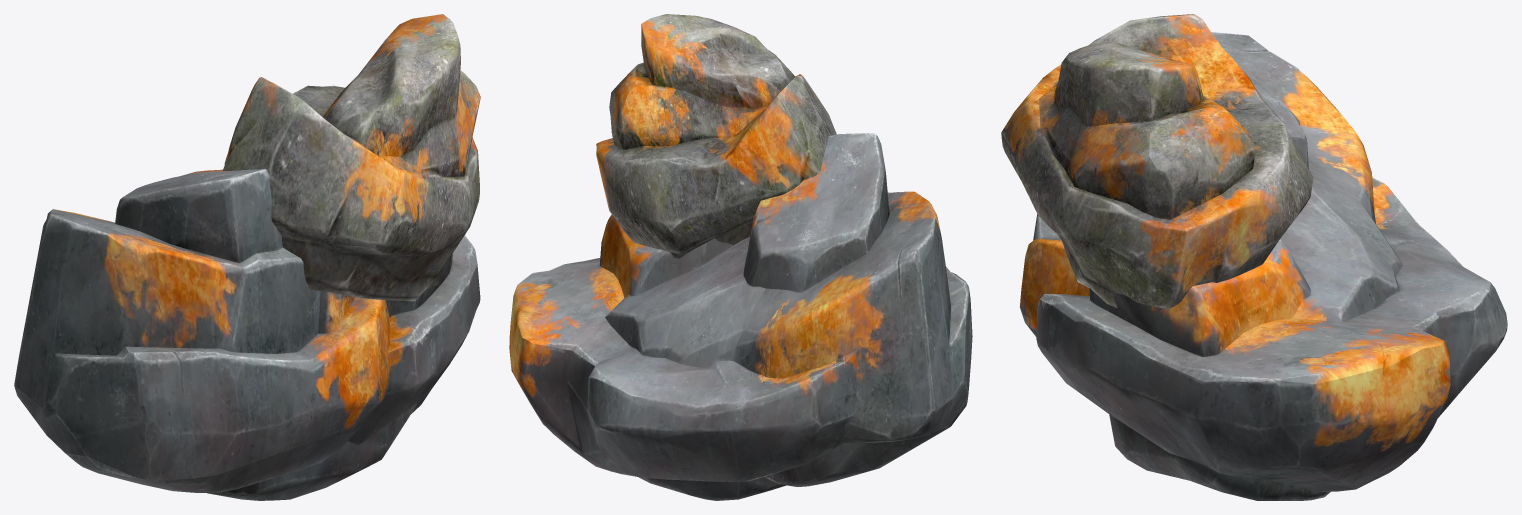
The picture shows the model from 3 angles, left to right: view 1: azimuth 30°, elevation 25°; view 2: azimuth 150°, elevation 25°; view 3: azimuth 270°, elevation 25°; orthographic projection. The views are drawn at different scales.
Parts seen in each view (by area): view 1: SM_Mining_Node_Large_B_LOD0; view 2: SM_Mining_Node_Large_B_LOD0; view 3: SM_Mining_Node_Large_B_LOD0.
Part boxes in pixels (x1,y1,x2,y2): SM_Mining_Node_Large_B_LOD0: (14, 14, 480, 500); SM_Mining_Node_Large_B_LOD0: (509, 14, 972, 500); SM_Mining_Node_Large_B_LOD0: (1001, 14, 1507, 500).
Size of the model in its own units: 3.88 by 3.71 by 3.55.
2 materials, 2 textured.
